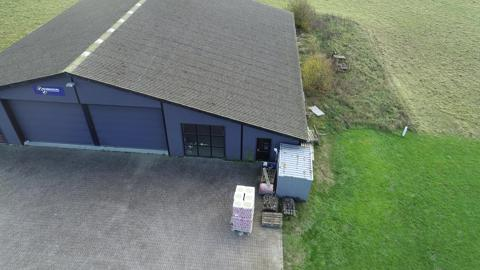RockwoolPallet: (232, 184, 254, 230)
